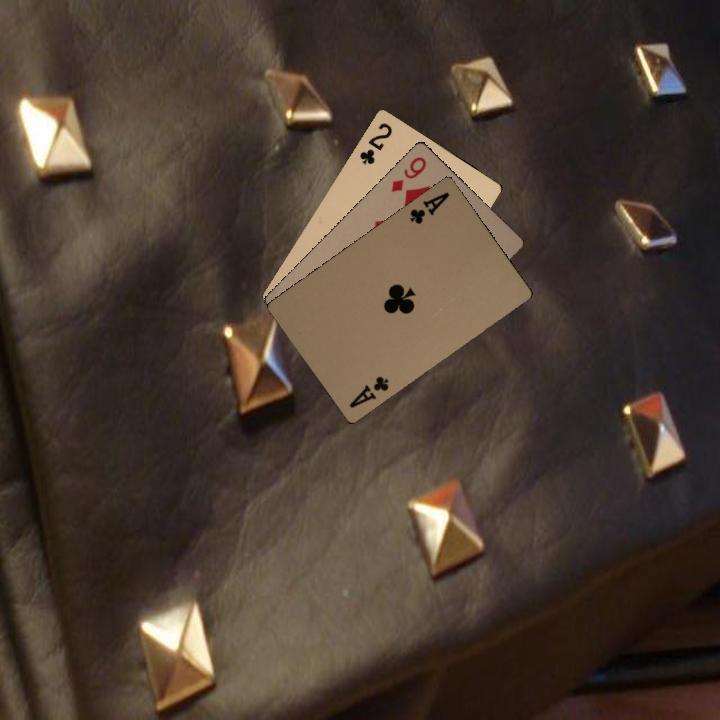2c: (355, 118, 395, 167)
9d: (387, 153, 429, 195)
Ac: (345, 372, 393, 411), (406, 188, 452, 227)
